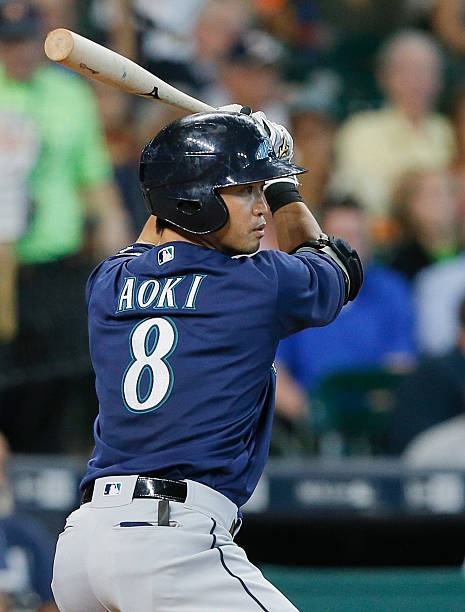bita: (45, 32, 229, 125)
